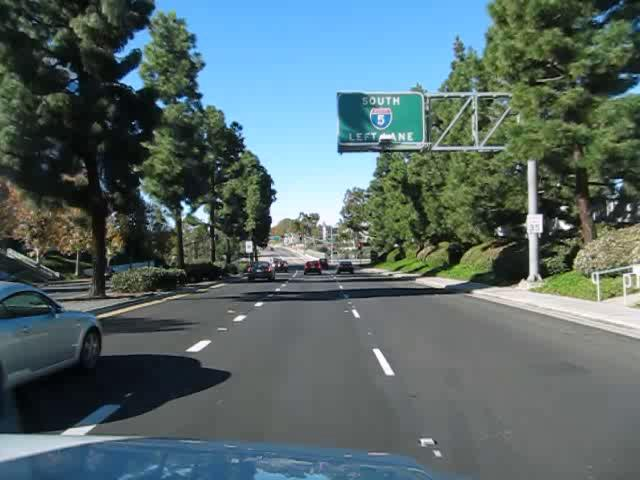speedLimit35: (526, 213, 543, 233)
